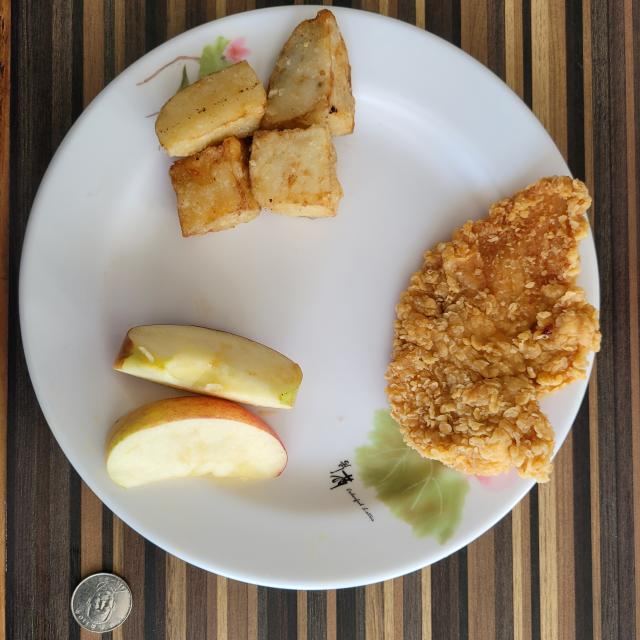apple -sliced-: (106, 325, 302, 488)
coin: (71, 572, 132, 632)
fried chicken cutlet: (386, 176, 600, 481)
fried potato: (155, 10, 355, 236)
